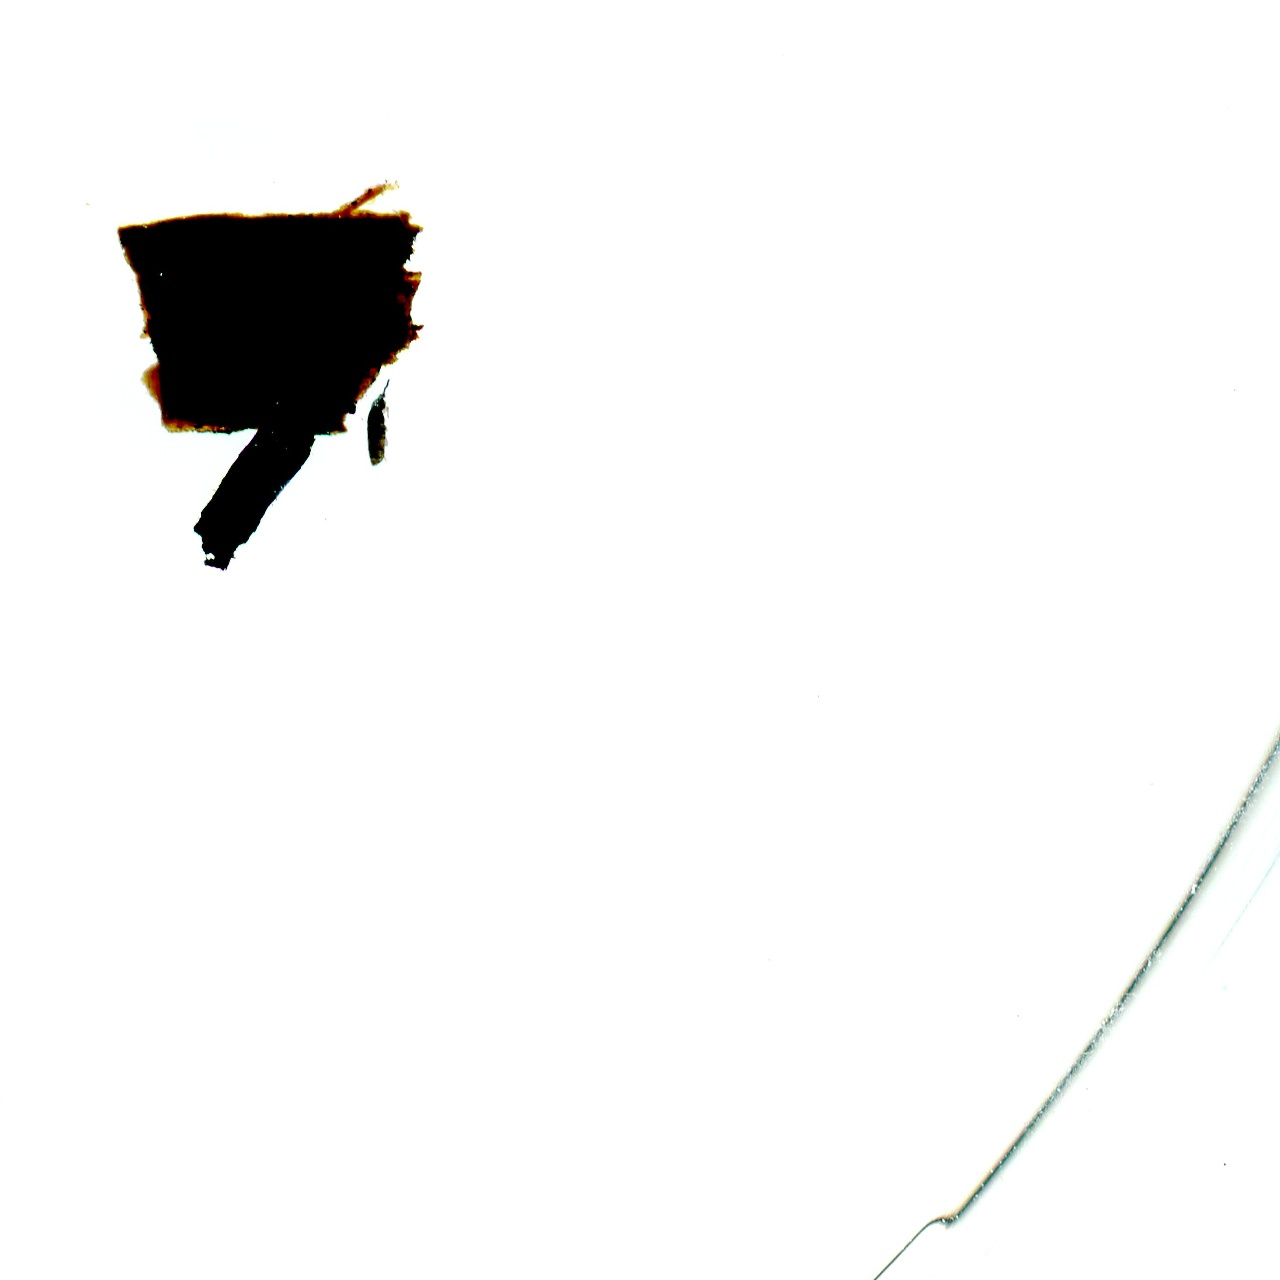arthropod: (363, 377, 399, 471)
